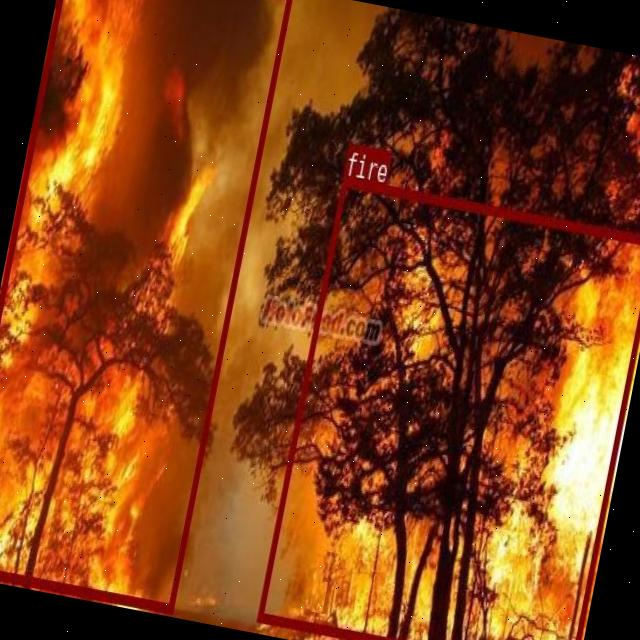fire: (0, 0, 293, 611), (257, 176, 640, 640)
